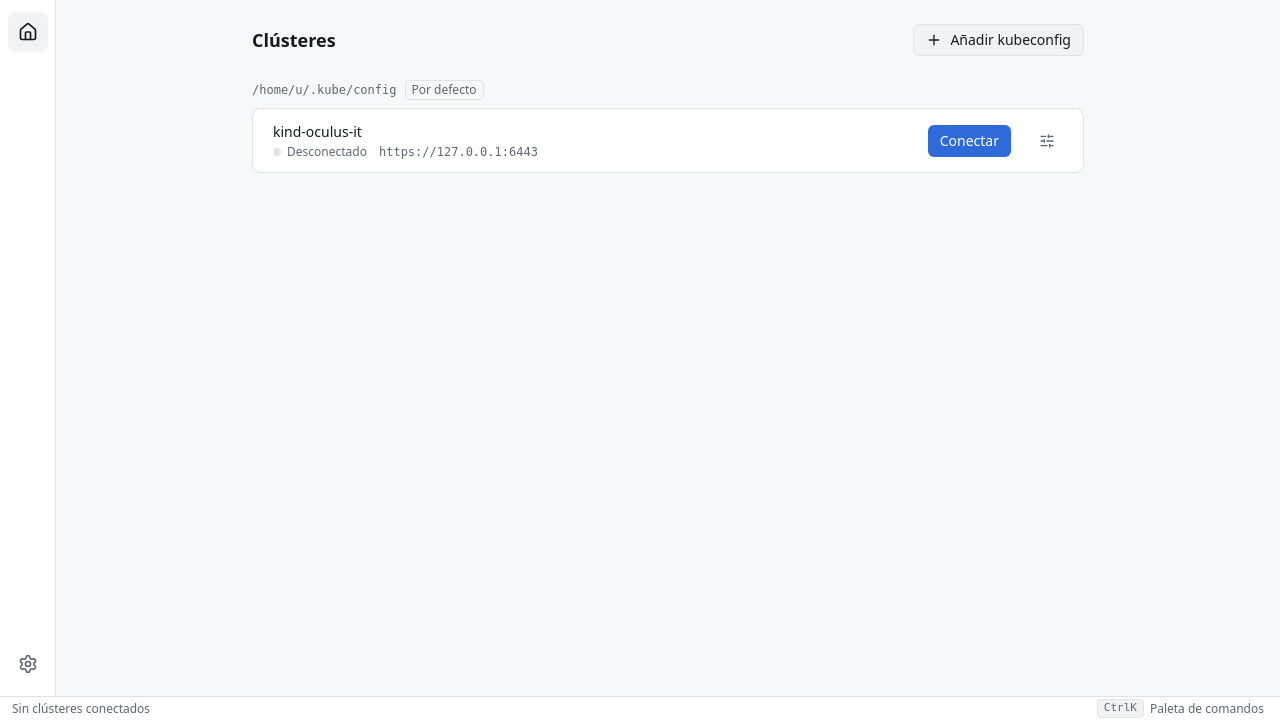
clústeres › conecta y refleja el estado que llega por eventos
expect the text "Desconectado" is shown: met, box x1=273 y1=144 x2=367 y2=160
Click the button "Conectar" at (969,140), box x1=928 y1=124 x2=1011 y2=156
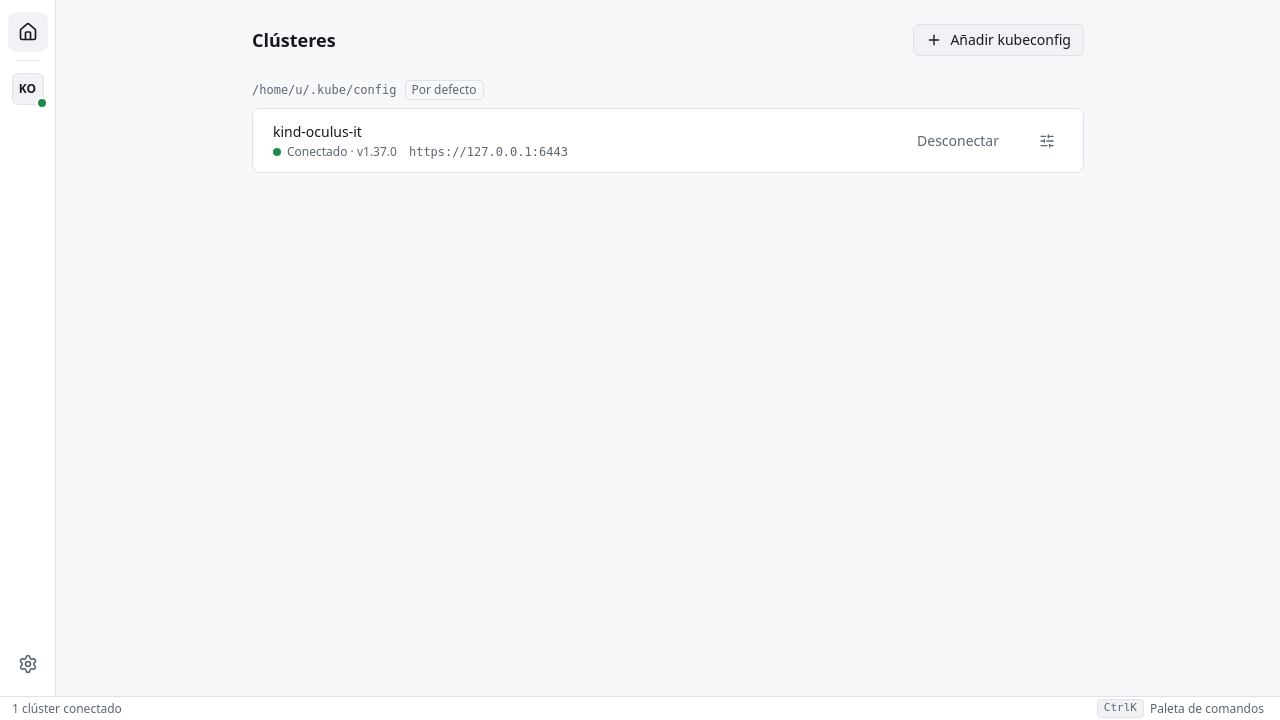
expect the text "Conectado · v1.37.0" is shown: met, box x1=273 y1=144 x2=397 y2=160
expect the button "Desconectar" is shown: met, box x1=905 y1=124 x2=1011 y2=156
expect the link to "/clusters/c1" is shown: met, box x1=8 y1=69 x2=48 y2=109
